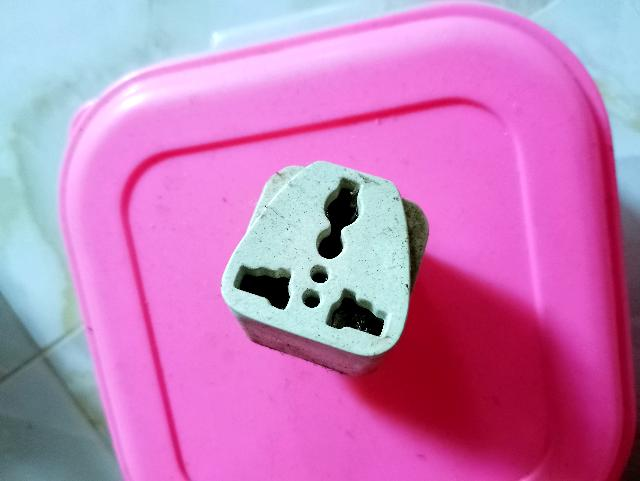hardplastic: (170, 137, 446, 380)
